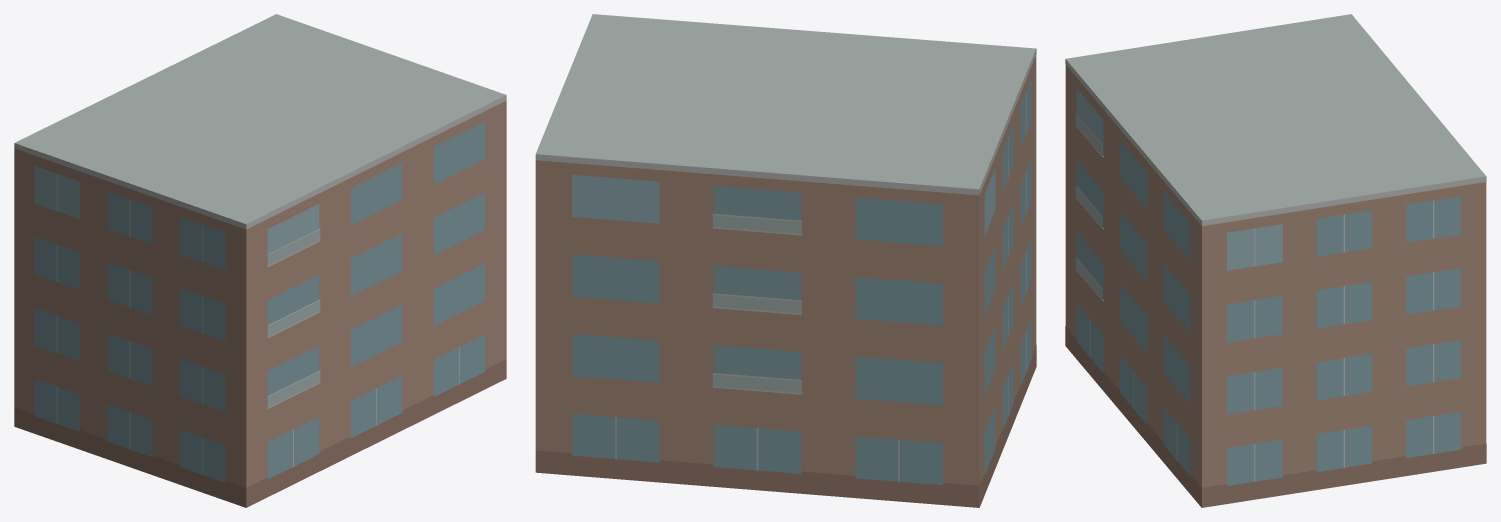
Rendered from survey-upis-32864812.glb.
The picture shows the model from 3 angles, left to right: view 1: azimuth 30°, elevation 25°; view 2: azimuth 150°, elevation 25°; view 3: azimuth 270°, elevation 25°; orthographic projection. The views are drawn at different scales.
Visible parts, largest first — view 1: survey-upis-32864812.tmp; view 2: survey-upis-32864812.tmp; view 3: survey-upis-32864812.tmp.
Boxes of the visible parts, x1,y1,x2,y2 form: survey-upis-32864812.tmp: [14, 14, 506, 507]; survey-upis-32864812.tmp: [535, 14, 1036, 507]; survey-upis-32864812.tmp: [1065, 14, 1486, 507].
Size of the model in its own units: 19.77 by 12.8 by 17.02.
